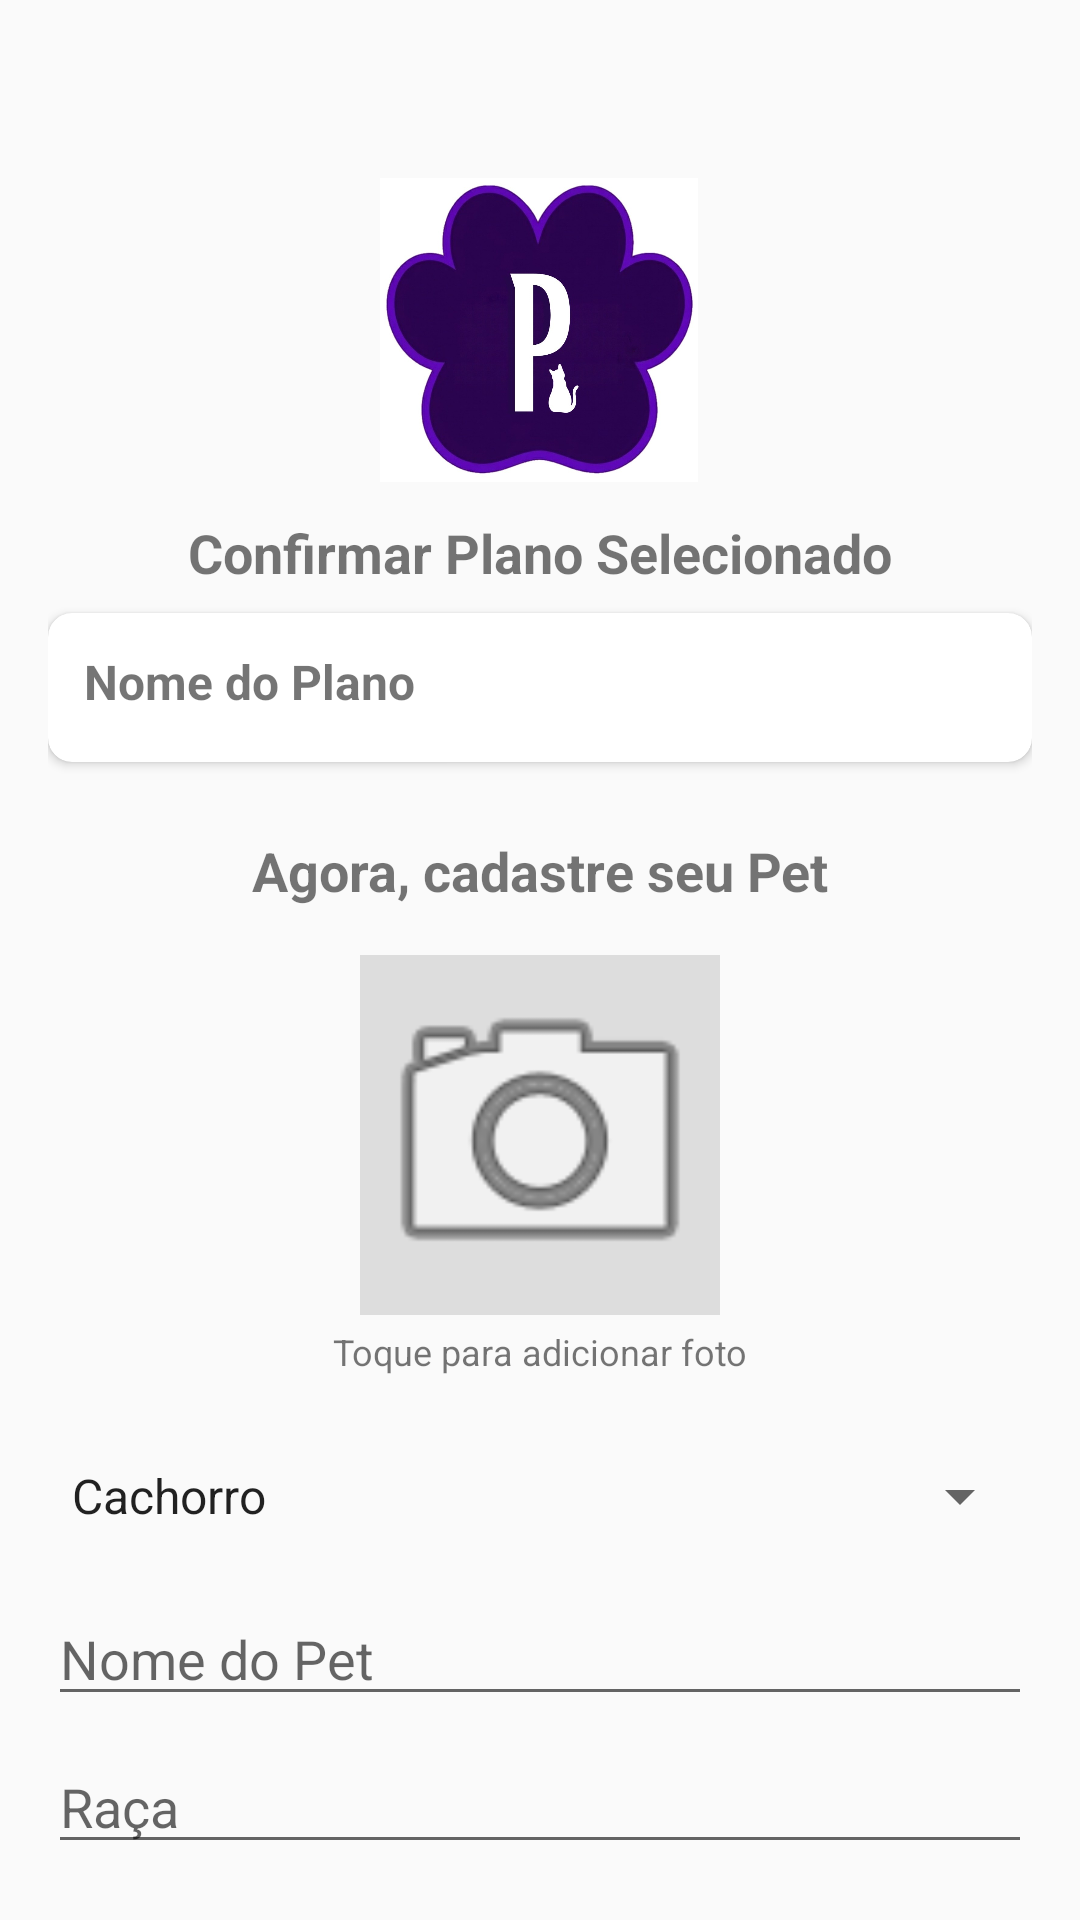

Icon bounding boxes for this 1080px×1920px phone screenshot, format bbox=[x1, y1, x2, y2]:
camera: bbox=[360, 955, 720, 1315]
